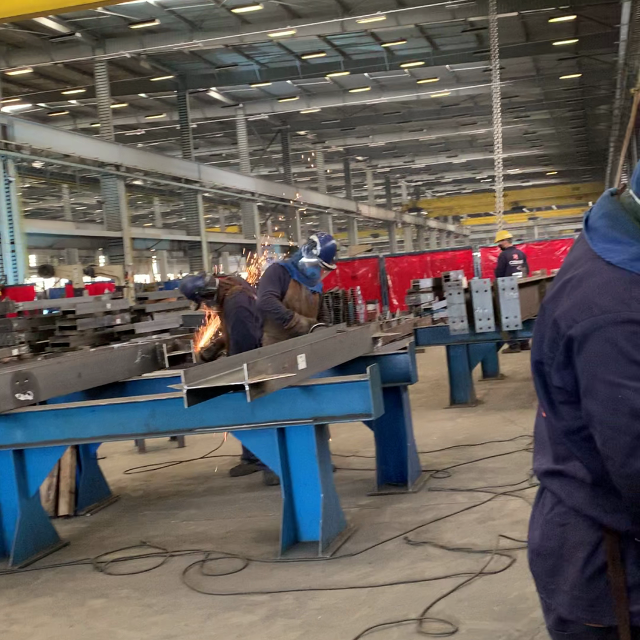face-shield: (296, 263, 335, 290)
glove: (284, 314, 320, 336)
helmet: (293, 231, 339, 264)
person: (256, 232, 337, 336)
